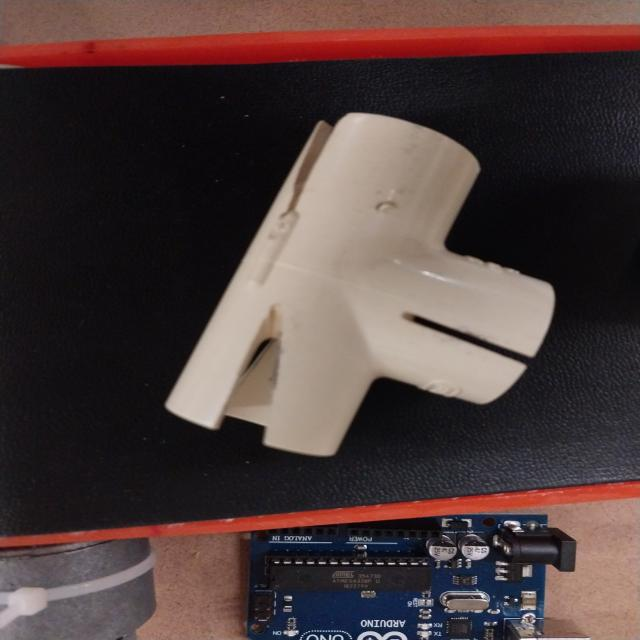Defective: (226, 303, 284, 431), (401, 317, 534, 369), (275, 126, 340, 218)
T Joint: (169, 114, 555, 462)
